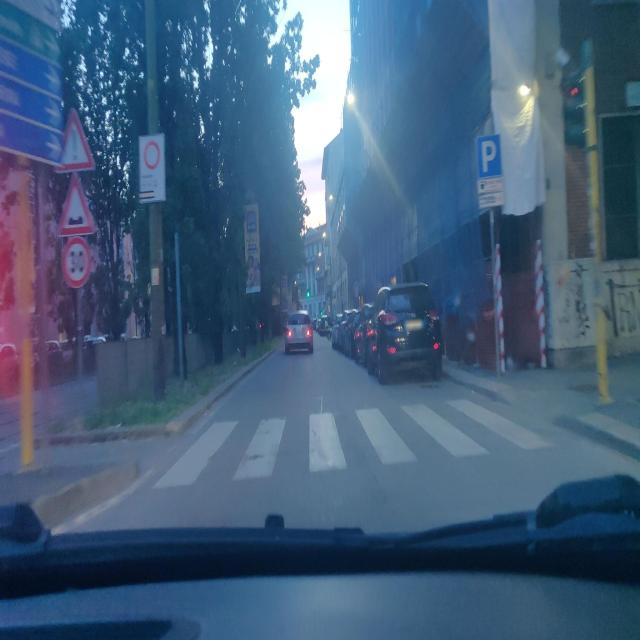car: (365, 280, 444, 386), (284, 310, 314, 356), (352, 304, 374, 364), (339, 308, 358, 355), (344, 307, 361, 359), (331, 312, 344, 350)
